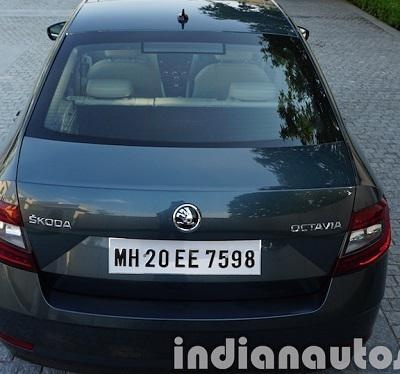number_plate: (106, 238, 263, 276)
